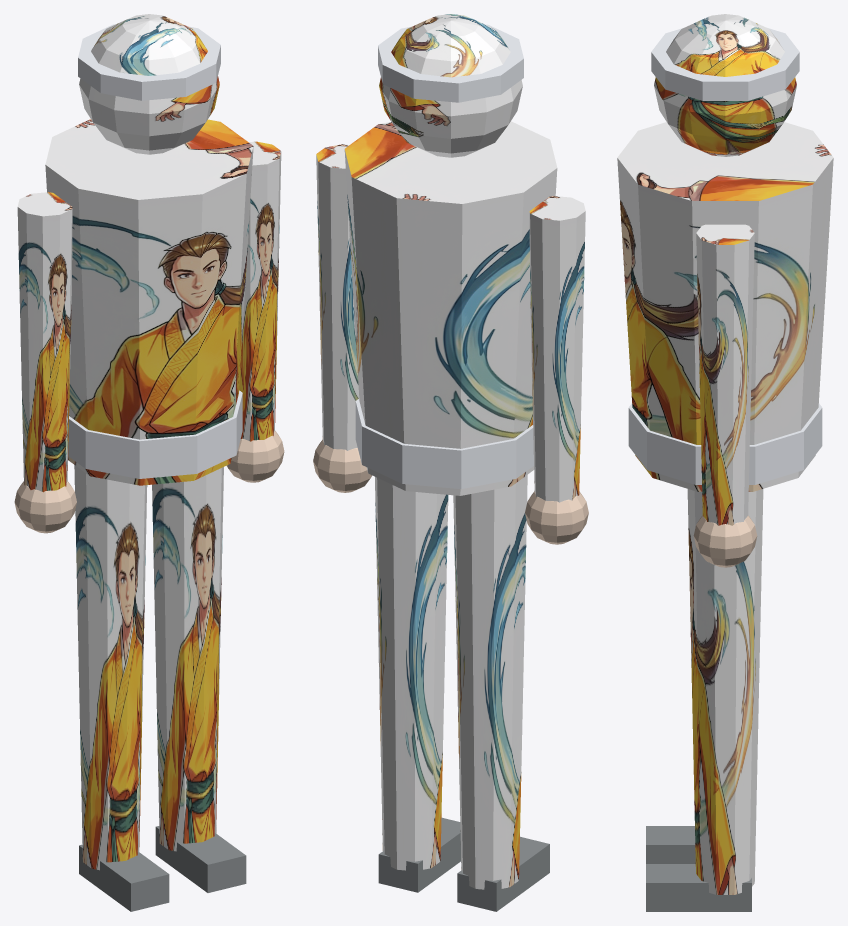
The picture shows the model from 3 angles, left to right: view 1: azimuth 30°, elevation 25°; view 2: azimuth 150°, elevation 25°; view 3: azimuth 270°, elevation 25°; orthographic projection. The views are drawn at different scales.
Parts seen in each view (by area): view 1: torso, thighR, thighL, armR, head, armL, belt, band, footL, footR, handR, handL; view 2: torso, thighR, thighL, armR, head, armL, belt, band, footR, footL, handR, handL; view 3: torso, thighL, armL, head, belt, band, footL, handL, footR.
Part boxes in pixels (x1=…): torso: x1=45, y1=119, x2=253, y2=485; thighR: x1=74, y1=465, x2=147, y2=870; thighL: x1=152, y1=467, x2=223, y2=851; armR: x1=17, y1=192, x2=72, y2=492; head: x1=79, y1=14, x2=219, y2=154; armL: x1=239, y1=141, x2=281, y2=441; belt: x1=68, y1=390, x2=242, y2=478; band: x1=78, y1=24, x2=220, y2=100; footL: x1=155, y1=826, x2=246, y2=892; footR: x1=79, y1=844, x2=169, y2=911; handR: x1=14, y1=481, x2=76, y2=533; handL: x1=226, y1=430, x2=284, y2=482; torso: x1=344, y1=121, x2=557, y2=495; thighR: x1=453, y1=475, x2=527, y2=889; thighL: x1=375, y1=477, x2=448, y2=870; armR: x1=529, y1=196, x2=585, y2=502; head: x1=379, y1=14, x2=522, y2=157; armL: x1=316, y1=144, x2=359, y2=450; belt: x1=355, y1=398, x2=533, y2=488; band: x1=378, y1=24, x2=523, y2=102; footR: x1=457, y1=836, x2=549, y2=911; footL: x1=378, y1=817, x2=460, y2=892; handR: x1=525, y1=491, x2=588, y2=544; handL: x1=313, y1=439, x2=372, y2=492; torso: x1=617, y1=122, x2=833, y2=491; thighL: x1=687, y1=489, x2=763, y2=894; armL: x1=696, y1=224, x2=754, y2=525; head: x1=654, y1=14, x2=796, y2=156; belt: x1=628, y1=403, x2=822, y2=484; band: x1=651, y1=28, x2=799, y2=100; footL: x1=646, y1=864, x2=751, y2=911; handL: x1=693, y1=515, x2=757, y2=567; footR: x1=646, y1=826, x2=695, y2=863.
Bounding box in the file's own units: 0.579 × 1.79 × 0.408.
4 materials, 1 textured.
